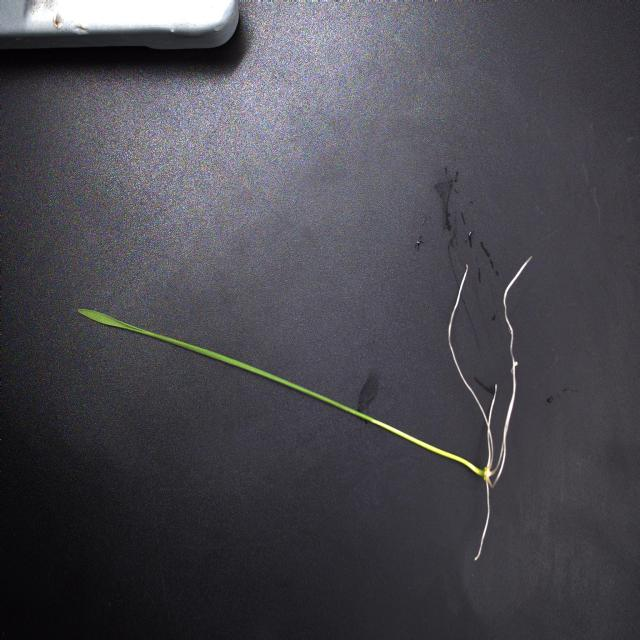leaf: (78, 308, 374, 423)
root: (448, 250, 534, 567)
stem: (374, 420, 482, 475)
